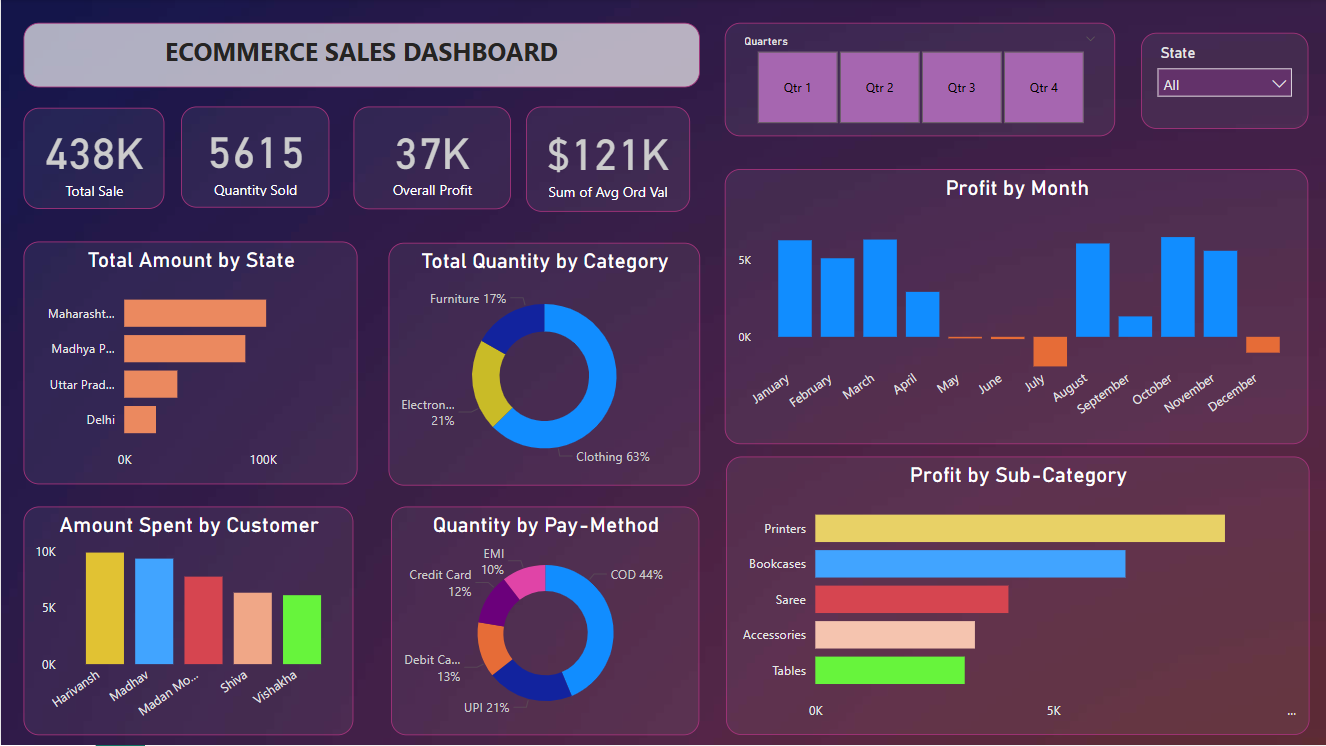

The dashboard page shown, as its layout file describes it:
{"tool":"powerbi","page":{"name":"Page 1","canvas":[1280,720],"ordinal":0},"visuals":[{"type":"textbox","box":[21.7,22.9,652.7,62.7],"z":0},{"type":"columnChart","title":"Profit by Month","fields":{"Category":["Orders.Order Date.Variation.Date Hierarchy.Month"],"Y":["Details.Profit"]},"box":[698.5,154.4,563.4,265.4],"z":1},{"type":"barChart","fields":{"Category":["Details.Sub-Category"],"Y":["Details.Profit"]},"box":[699.7,441.6,563.4,269],"z":2},{"type":"donutChart","fields":{"Category":["Details.Category"],"Y":["Details.Quantity"]},"box":[374,235.3,300.4,234],"z":3},{"type":"donutChart","fields":{"Category":["Details.PaymentMode"],"Y":["Details.Quantity"]},"box":[376.4,489.8,298,220.8],"z":4},{"type":"card","fields":{"Values":["Details.Amount"]},"box":[21.7,105,136.3,97.7],"z":5},{"type":"card","fields":{"Values":["Details.Quantity"]},"box":[173.7,103.8,143.6,97.7],"z":6},{"type":"card","fields":{"Values":["Details.Profit"]},"box":[340.2,103.8,152,98.9],"z":7},{"type":"card","fields":{"Values":["Details.Average Order Value"]},"box":[506.7,103.8,158,101.3],"z":8},{"type":"barChart","fields":{"Category":["Orders.State"],"Y":["Details.Amount"]},"box":[22,234.6,322.5,234.6],"z":9},{"type":"columnChart","fields":{"Category":["Orders.CustomerName"],"Y":["Details.Amount"]},"box":[22,489.9,318.4,220.9],"z":10},{"type":"slicer","fields":{"Values":["Orders.State"]},"box":[1100.3,32.6,161.7,92.9],"z":11},{"type":"slicer","fields":{"Values":["Orders.Order Date.Variation.Date Hierarchy.Quarter"]},"box":[698.5,22.9,376.4,109.8],"z":12}]}

Visuals, with their boxes in screenshot pixels (x1, y1, x2, y2), scaled from the page's 1280x720 canvas onto the 1326x746 screenshot:
textbox: crop(22, 24, 699, 89)
"Profit by Month" columnChart: crop(724, 160, 1307, 435)
barChart - Details.Sub-Category x Details.Profit: crop(725, 458, 1308, 736)
donutChart - Details.Category x Details.Quantity: crop(387, 244, 699, 486)
donutChart - Details.PaymentMode x Details.Quantity: crop(390, 507, 699, 736)
card - Details.Amount: crop(22, 109, 164, 210)
card - Details.Quantity: crop(180, 108, 329, 209)
card - Details.Profit: crop(352, 108, 510, 210)
card - Details.Average Order Value: crop(525, 108, 689, 213)
barChart - Orders.State x Details.Amount: crop(23, 243, 357, 486)
columnChart - Orders.CustomerName x Details.Amount: crop(23, 508, 353, 736)
slicer - Orders.State: crop(1140, 34, 1307, 130)
slicer - Orders.Order Date.Variation.Date Hierarchy.Quarter: crop(724, 24, 1114, 137)
